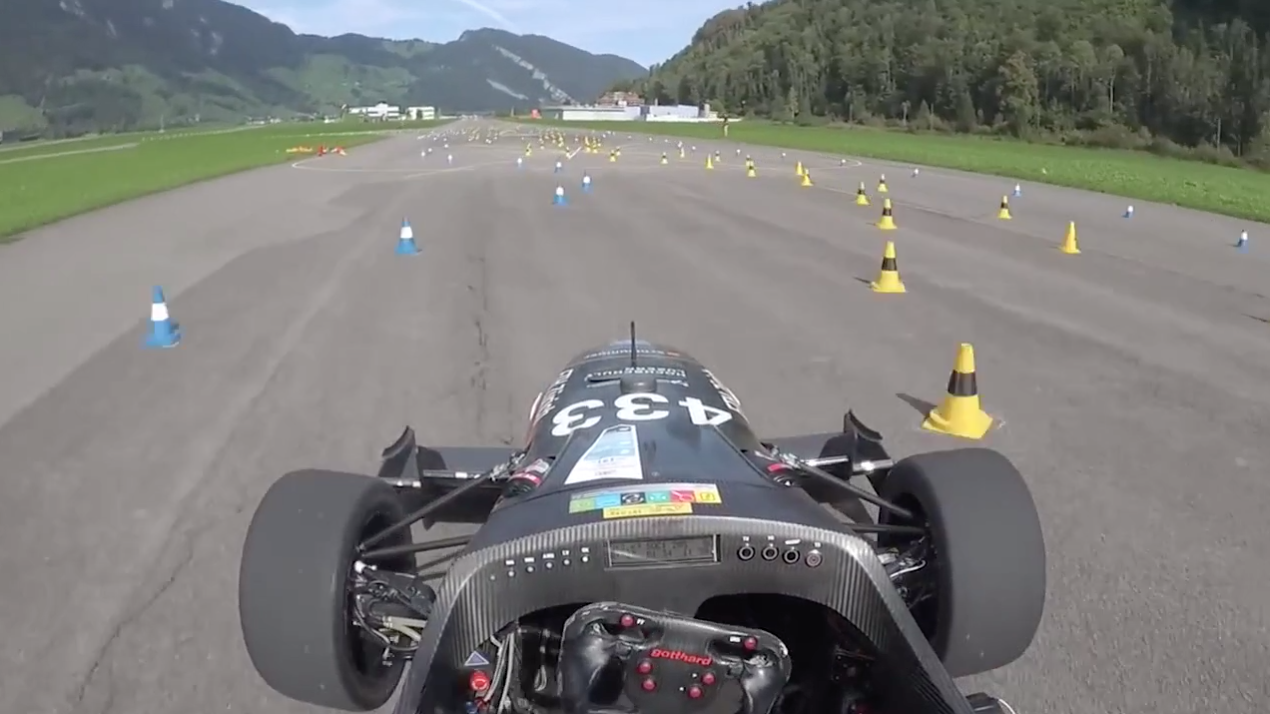lcone: (134, 281, 191, 349), (388, 214, 428, 260)
rcone: (912, 339, 1001, 441), (864, 239, 914, 299)
